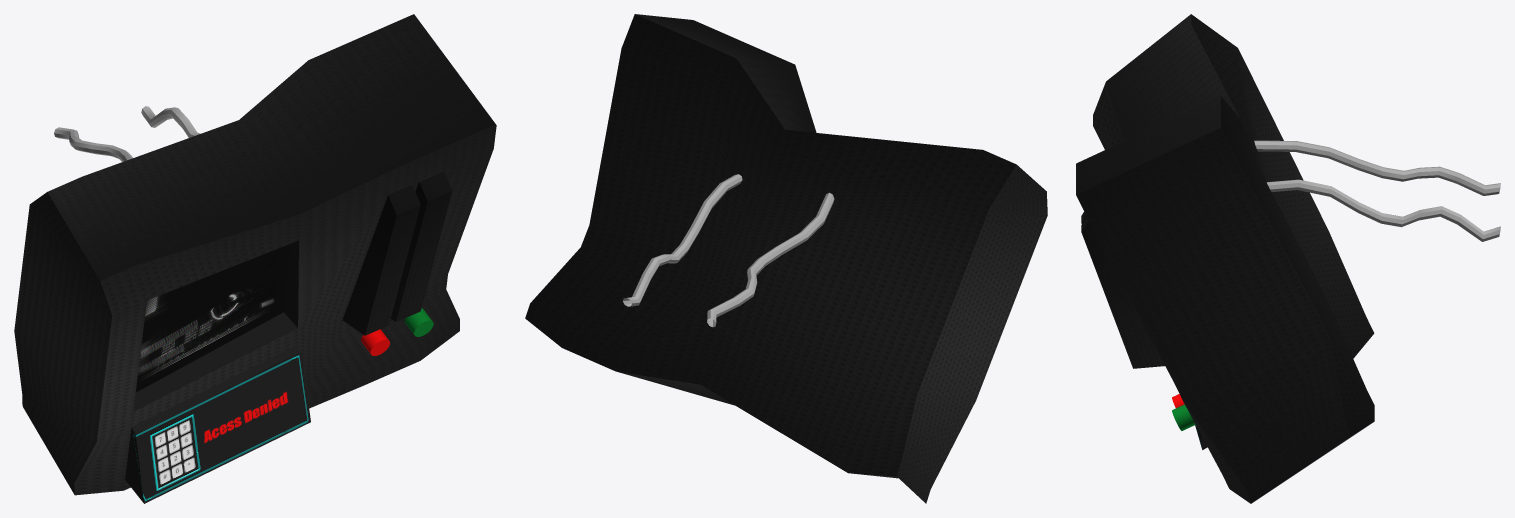
File: broken_console.fbx
3 renders of one model, left to right at view 1: azimuth 30°, elevation 25°; view 2: azimuth 150°, elevation 25°; view 3: azimuth 270°, elevation 25°, orthographic. The views are drawn at different scales.
Parts seen in each view (by area): view 1: polySurface4; view 2: polySurface4; view 3: polySurface4.
Boxes of the visible parts, x1,y1,x2,y2 form: polySurface4: (14, 14, 496, 503); polySurface4: (525, 14, 1047, 503); polySurface4: (1076, 14, 1500, 503).
Bounding box in the file's own units: 3.21 × 2.89 × 2.64.
Materials: 2 (1 with a texture image).
